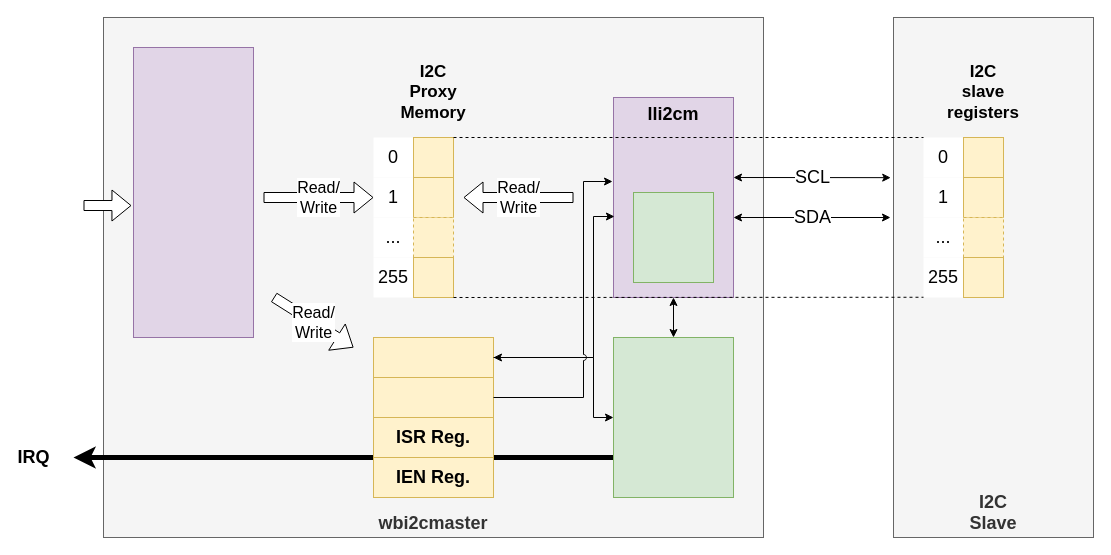
The diagram is 1111 pixels wide and 555 high, and some of its shapes have lost their labels. Here are the shapes that lost their labels. From the top down, the centre of each, then its label:
(193,192): Wisbone Frontend
(673,237): Low Level Protocol FSM
(433,357): CMD Reg.
(433,397): SPD Reg.
(673,417): High Level Transaction FSM
